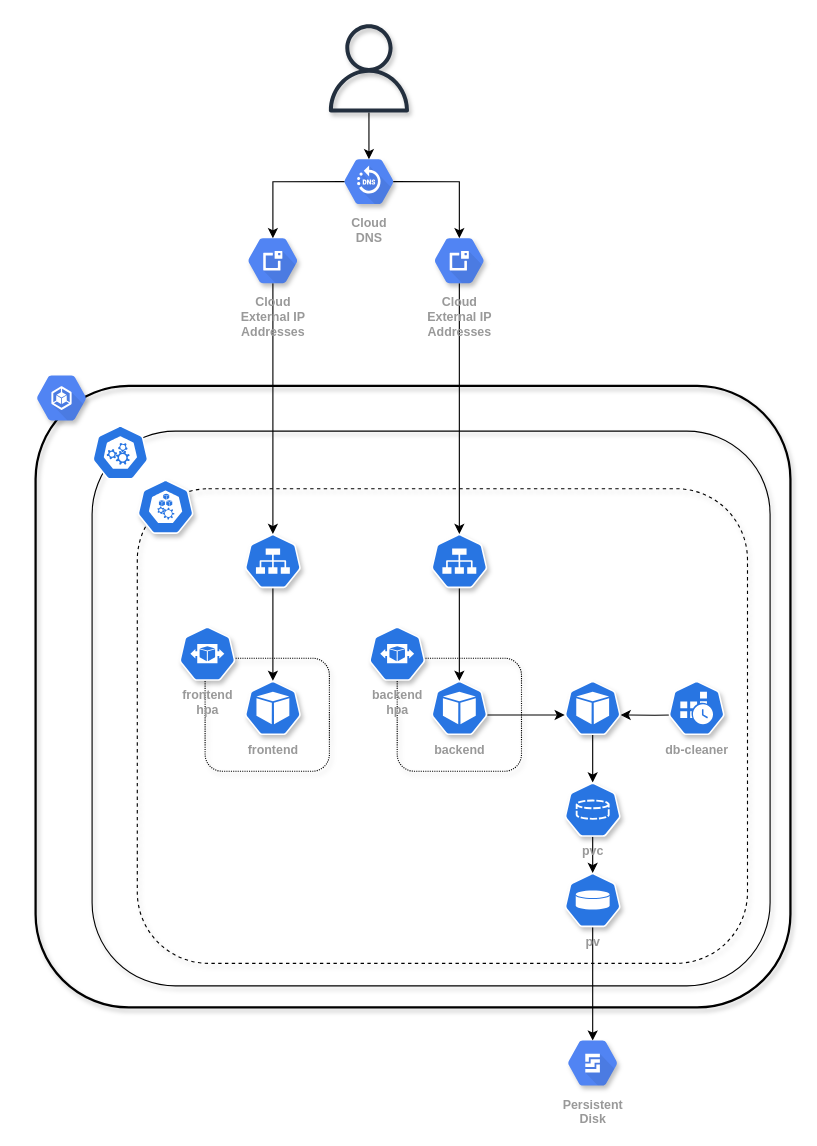
Some shapes in this 817 by 1146 pixel diagram are drawn without their labels. Here are the shapes that lost their labels. From the top down, the centre of each, then its label:
At point (62, 399): "Kubernetes Engine".
At point (120, 452): "Cluster".
At point (166, 508): "Auto-scaled nodes".
At point (273, 562): "frontend service".
At point (459, 562): "backend service".
At point (593, 709): "database".
